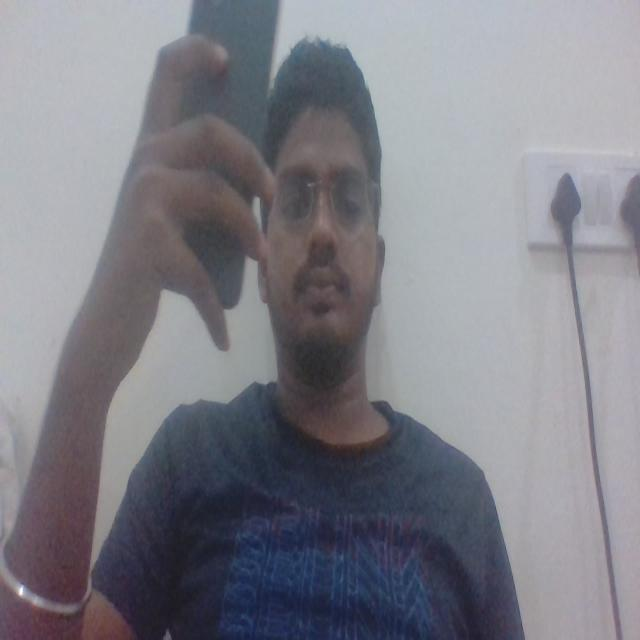Phone: (163, 0, 282, 311)
